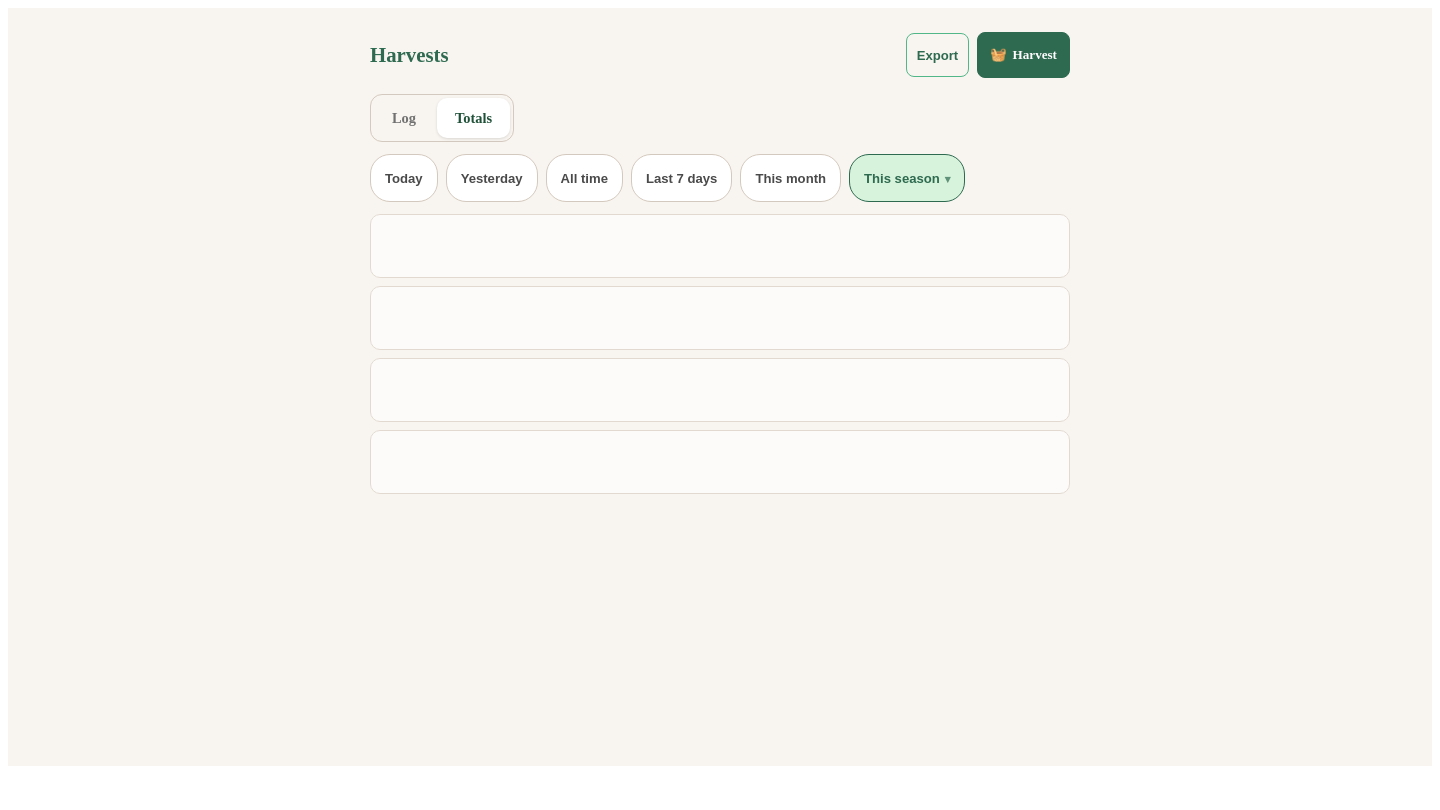
Test: Harvests — PROJHIDE › a project-less pick links to its planting and its event; a plantless one stays inert
Click the radio button labelled "Log" at x=404, y=118, box [374,98,434,138]
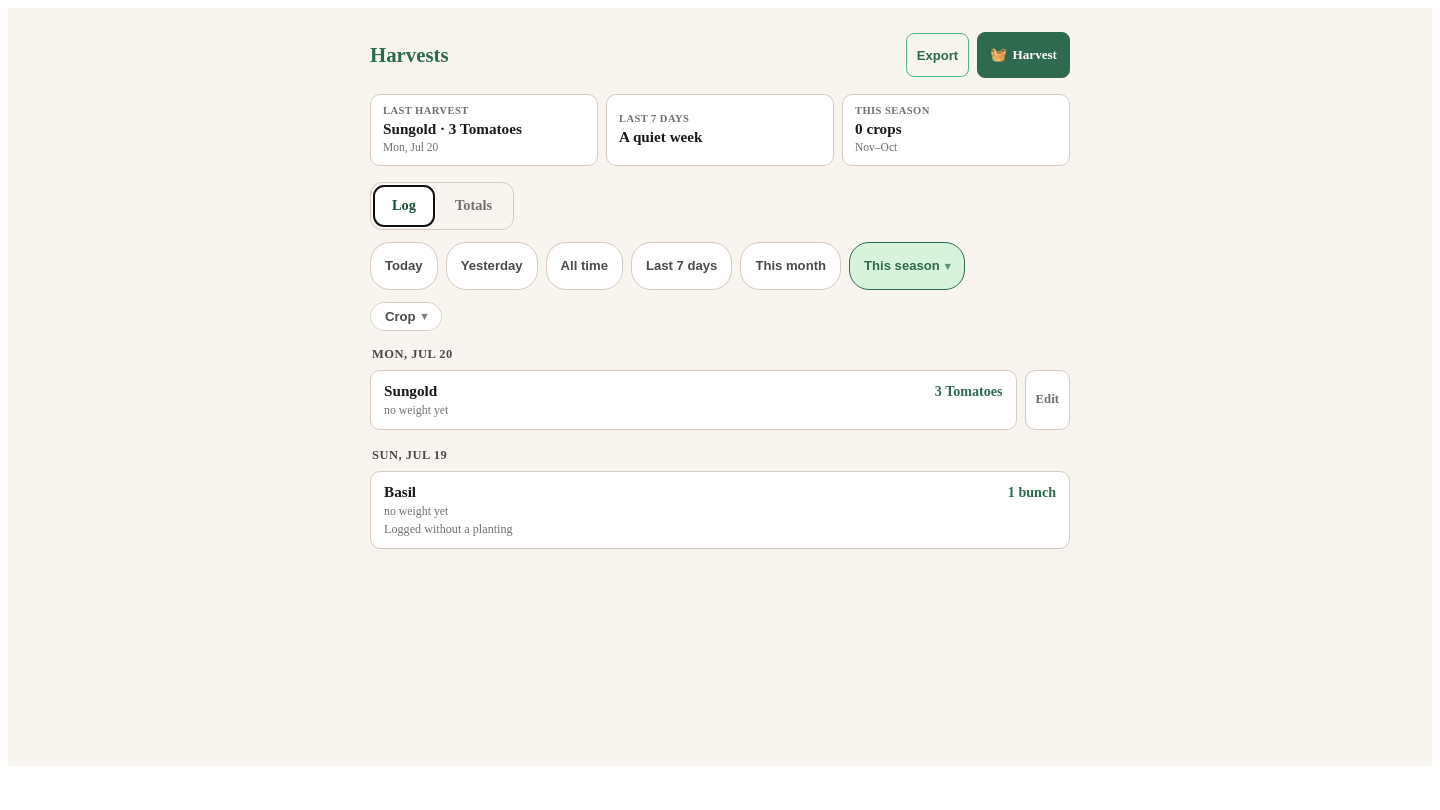
Expected: the text "Sungold" is shown, [384,382,437,400]
